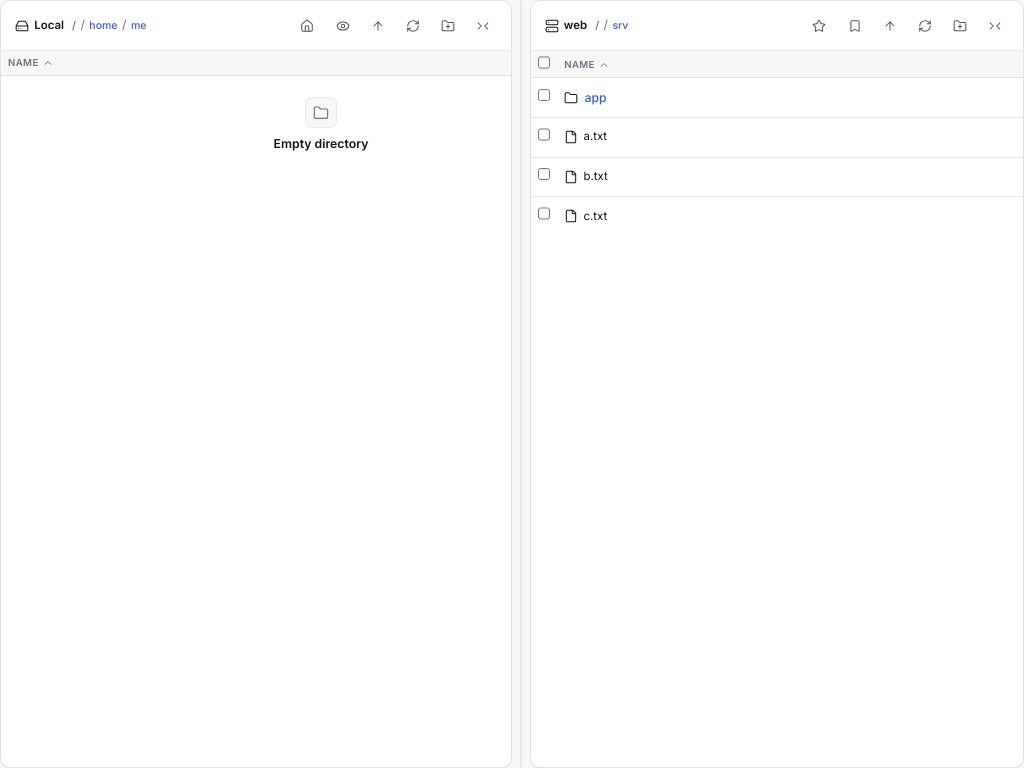
Test: multi-select › selects with click, shift and ctrl, and with the select-all box
Expected: the text "a.txt" is shown, 584,128 -> 607,146
Click the text "a.txt".
click(777, 138)  # box 530,118 -> 1023,158
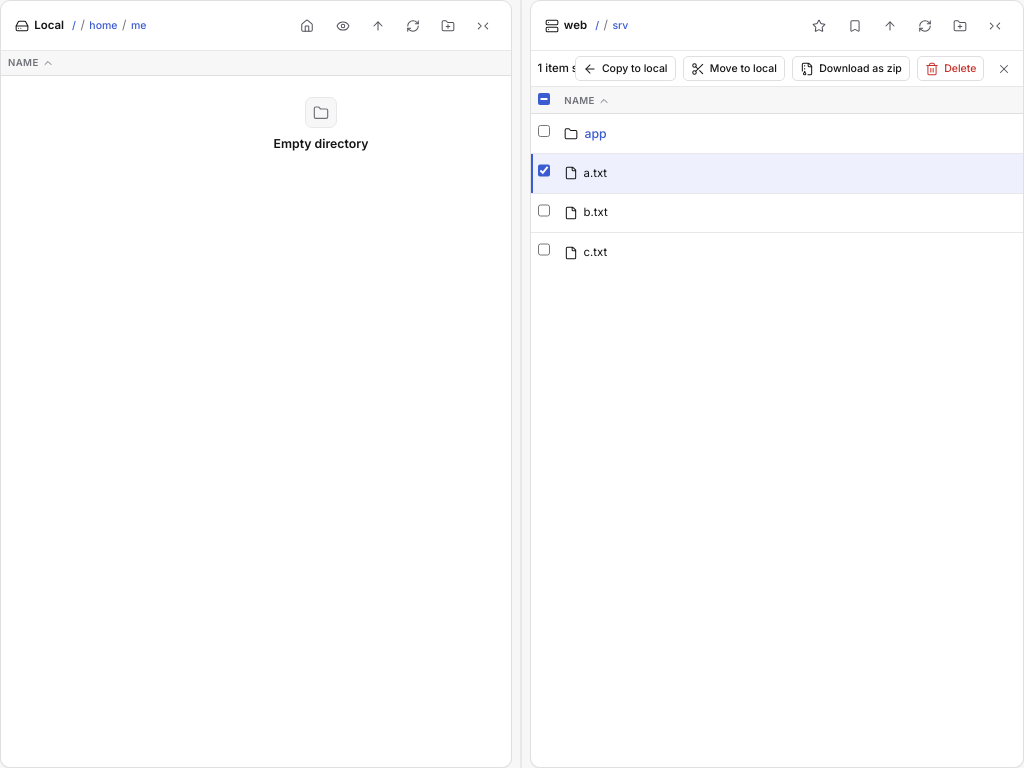
Click the text "c.txt".
click(571, 253)  # box 530,233 -> 1023,272
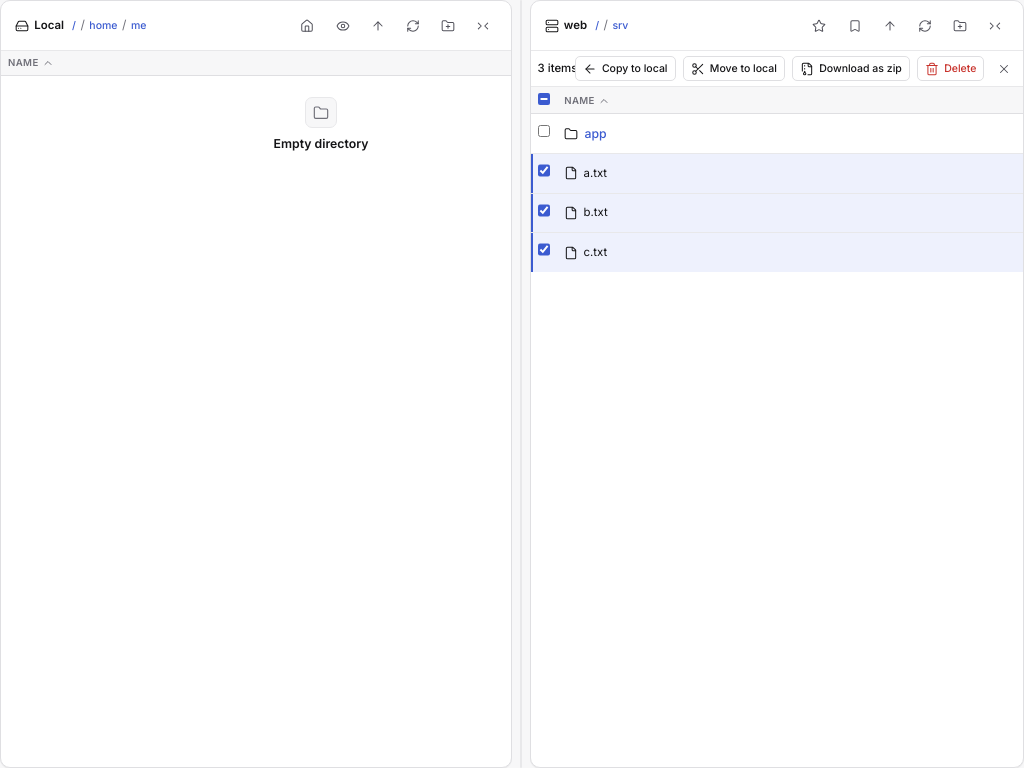
Expected: the text "3 items selected" is shown, 538,59 -> 627,78
Click the text "b.txt".
click(777, 214)  # box 530,194 -> 1023,233
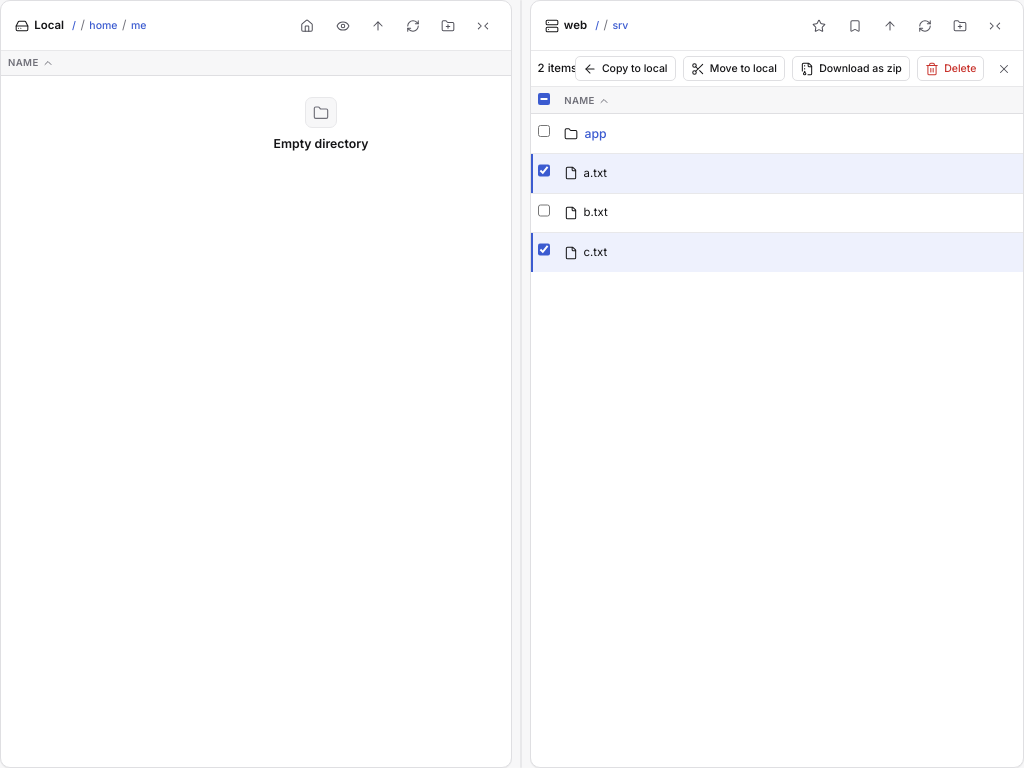
Expected: the text "2 items selected" is shown, 538,59 -> 627,78
Click the checkbox named "Select all".
click(544, 99)  # box 538,92 -> 550,105
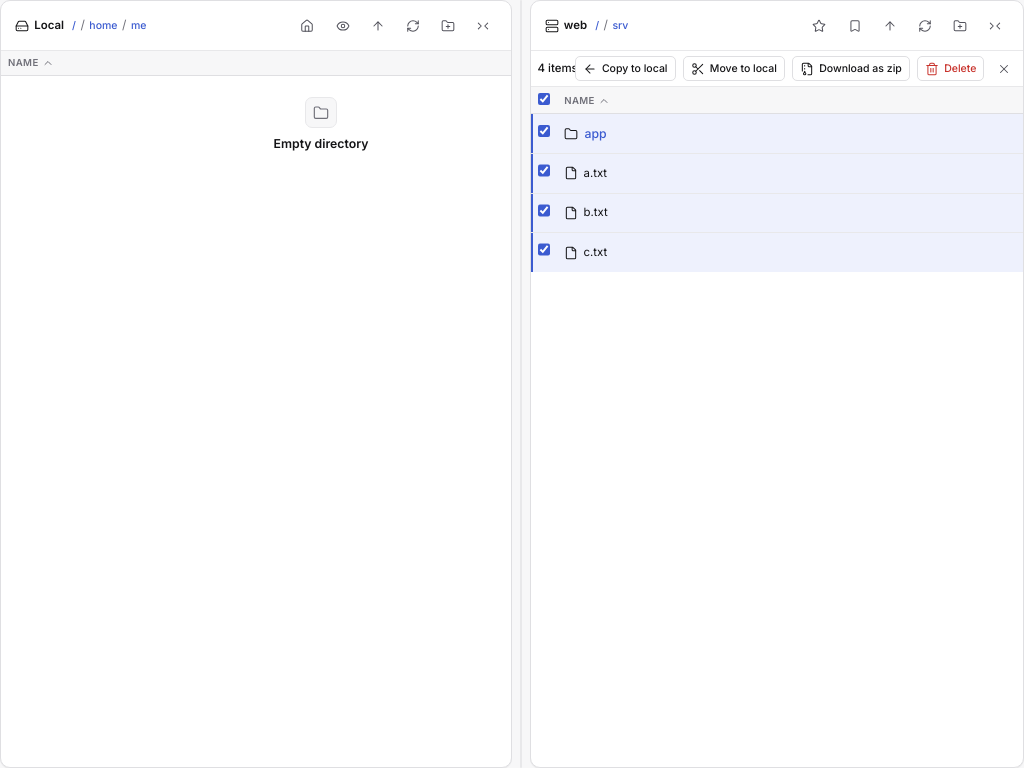
Expected: the text "4 items selected" is shown, 538,59 -> 627,78
Click the button named "Clear selection".
click(1004, 69)  # box 991,56 -> 1016,81
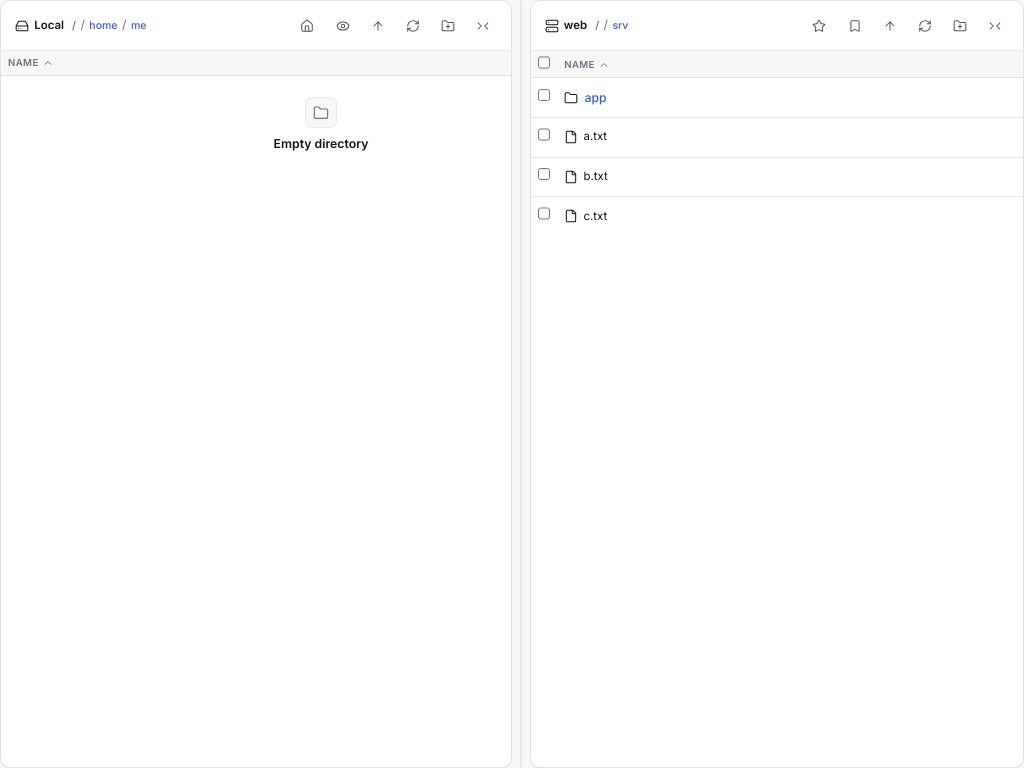
Expected: the text "selected" is gone
